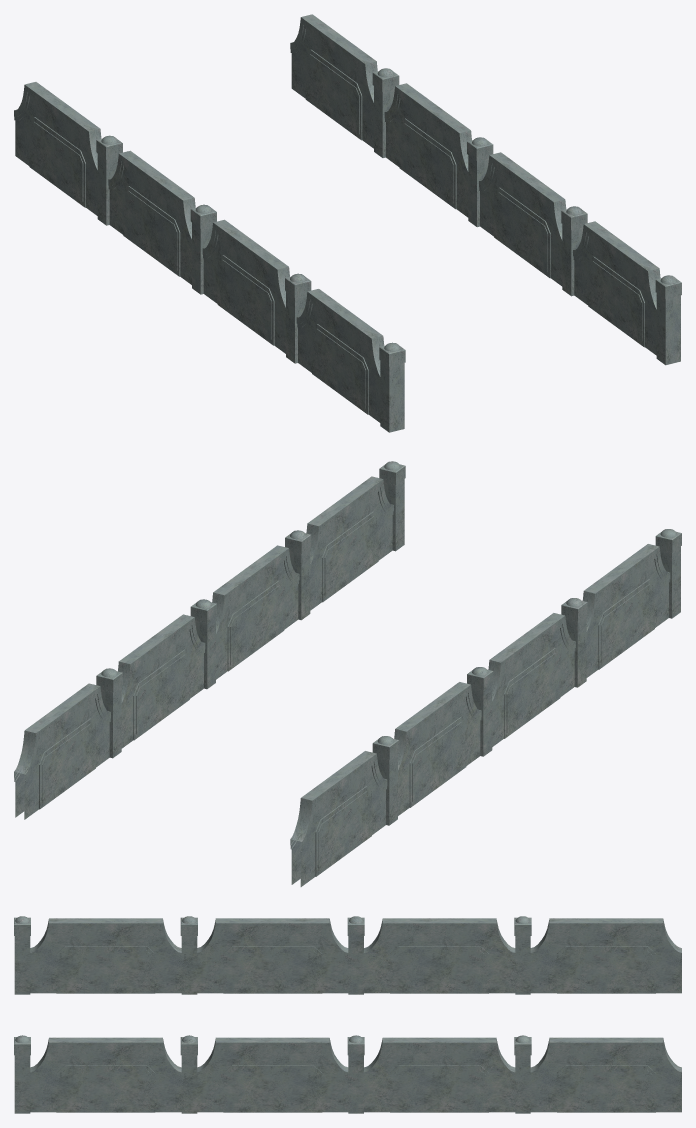
File: TestThings.FBX
3 renders of one model, top to bottom at view 1: azimuth 30°, elevation 25°; view 2: azimuth 150°, elevation 25°; view 3: azimuth 270°, elevation 25°, orthographic. The views are drawn at different scales.
Parts seen in each view (by area): view 1: Balustrade004; view 2: Balustrade004; view 3: Balustrade004.
Boxes of the visible parts, box(x1,y1,x2,y2) form: Balustrade004: box(14, 14, 681, 432); Balustrade004: box(14, 461, 681, 886); Balustrade004: box(14, 916, 681, 1113).
Bounding box in the file's own units: 127 × 34.71 × 284.
1 material, 1 textured.
